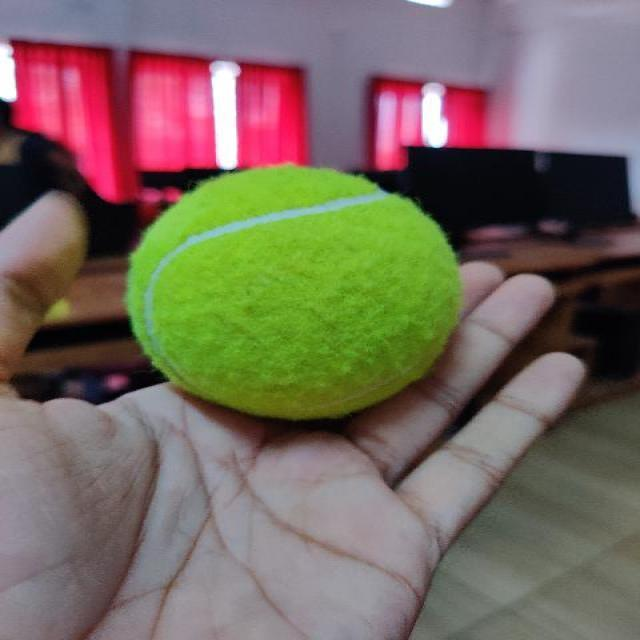tennis-ball: (126, 166, 462, 419)
